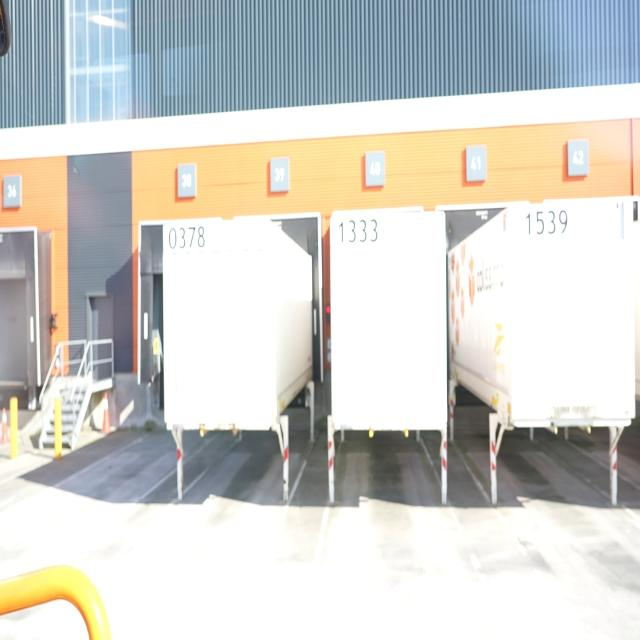Code: (524, 206, 570, 242), (336, 215, 382, 248), (166, 221, 208, 254)
